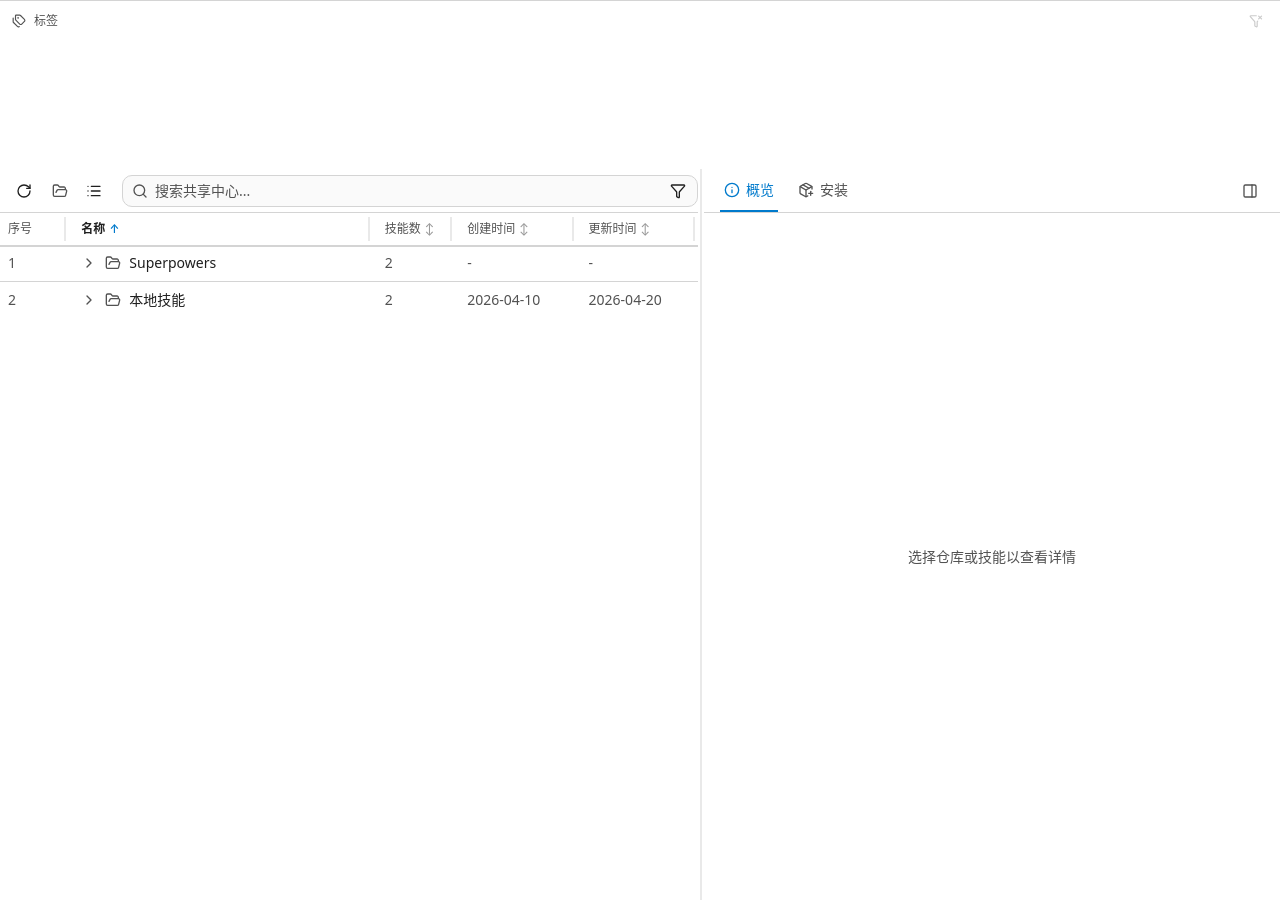
it: CentralSkillsView › keeps bundle delete icon from opening the folder table
Step 1. Press + in the element named "技能列表", box [0, 169, 698, 318]
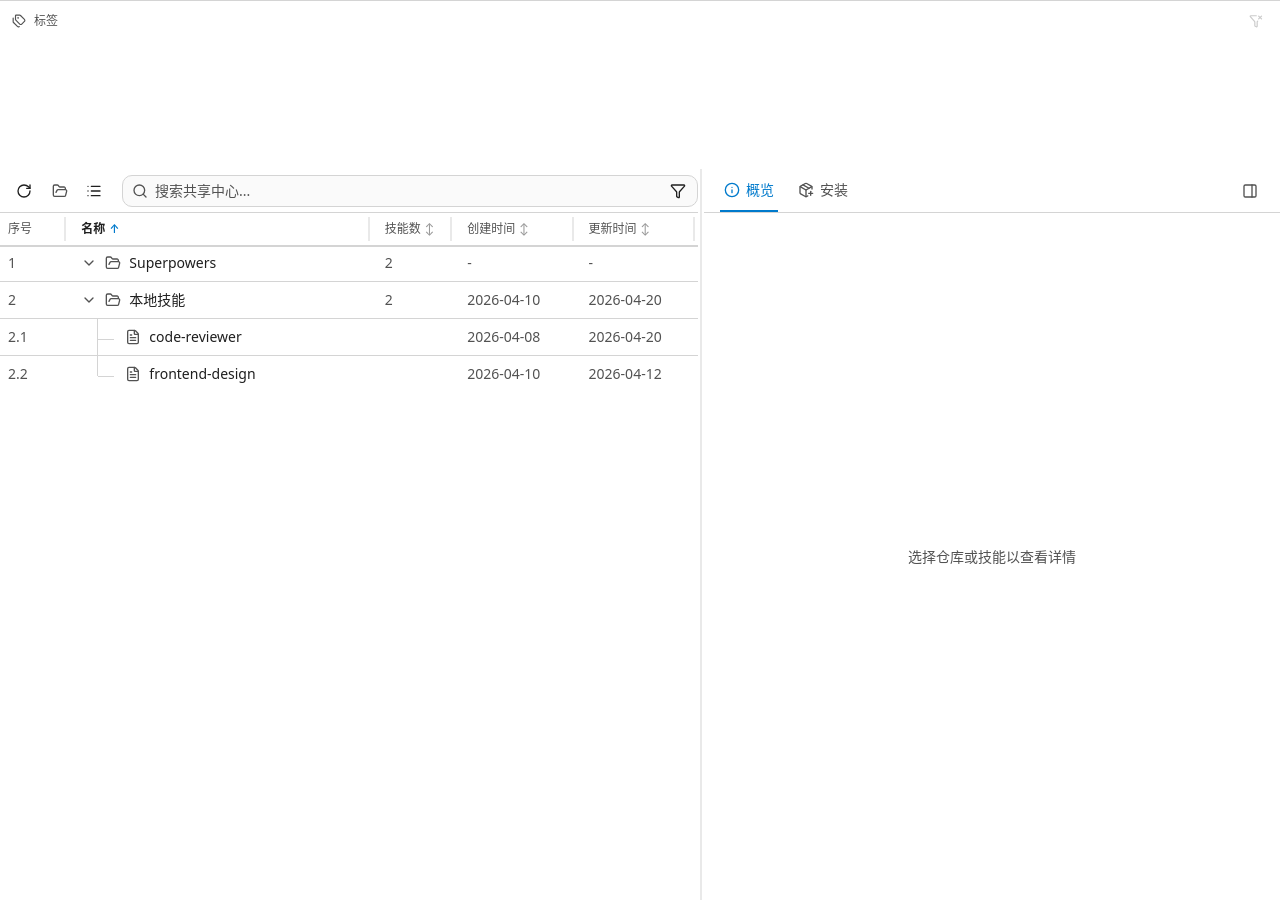
Step 2. Right-click the row "1 Superpowers 2 - -" → (349, 263), box [0, 245, 698, 282]
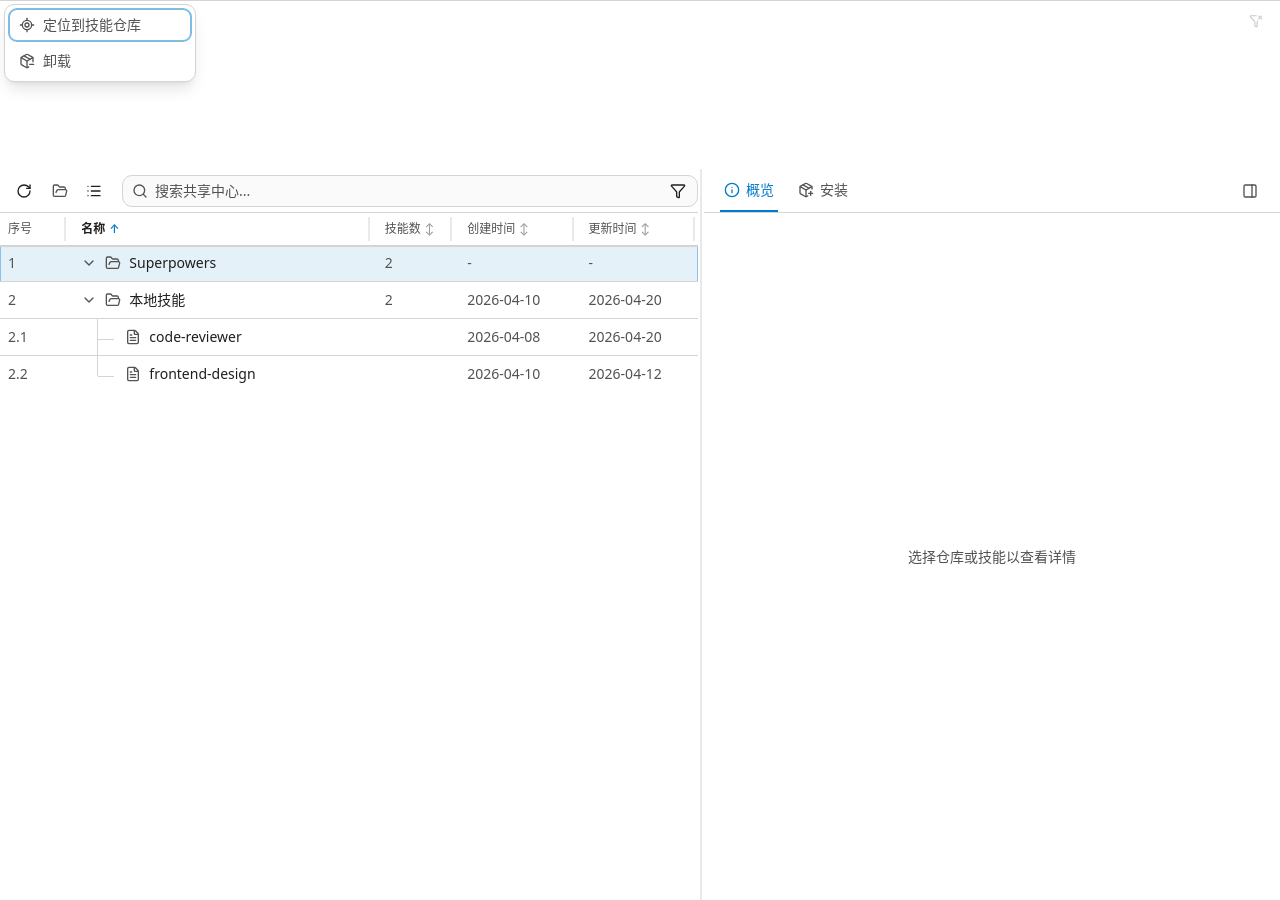
Step 3. Click the menu item "卸载" → (100, 61), box [9, 45, 191, 77]
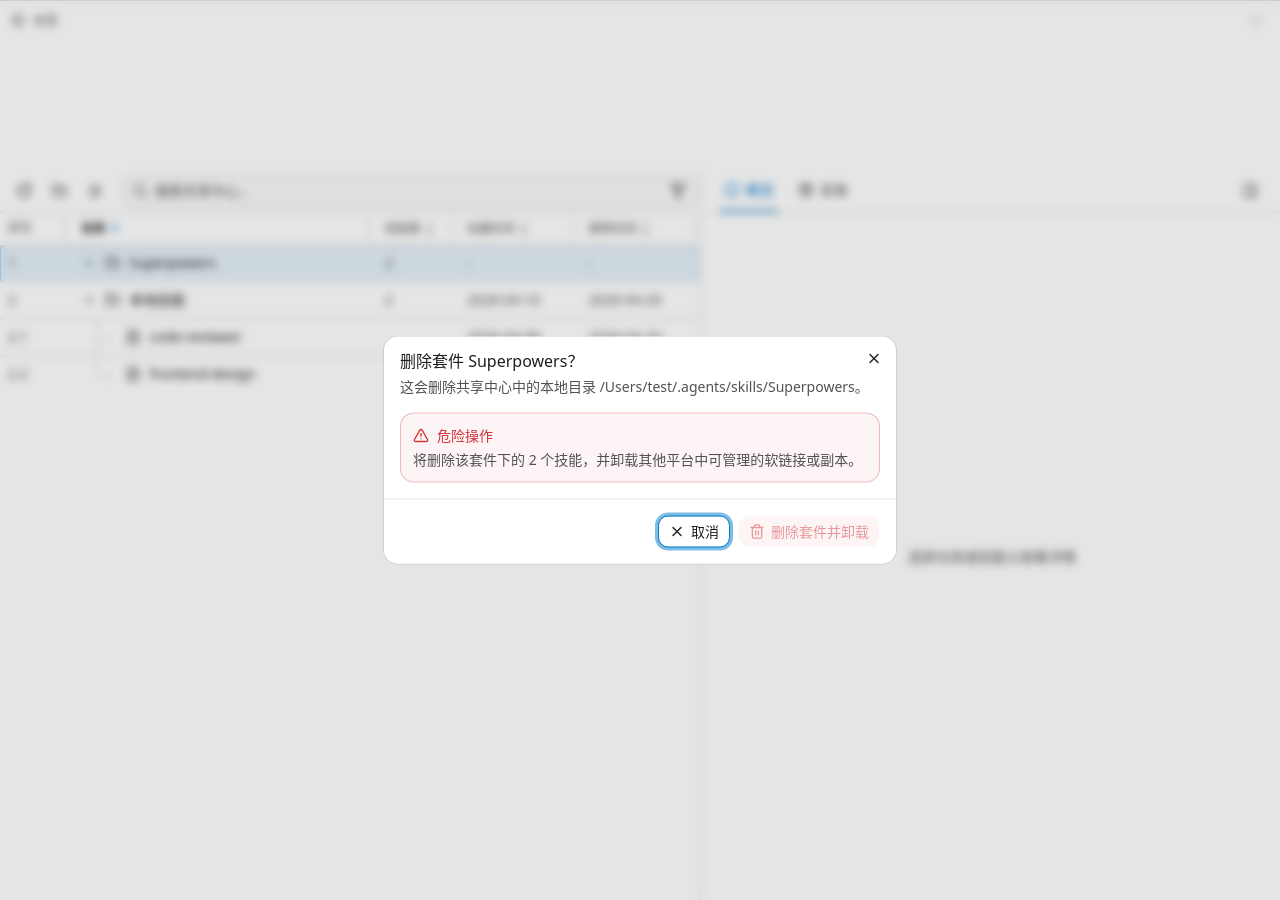
Expected: the dialog "删除套件 Superpowers" is shown, [384, 336, 896, 564]
